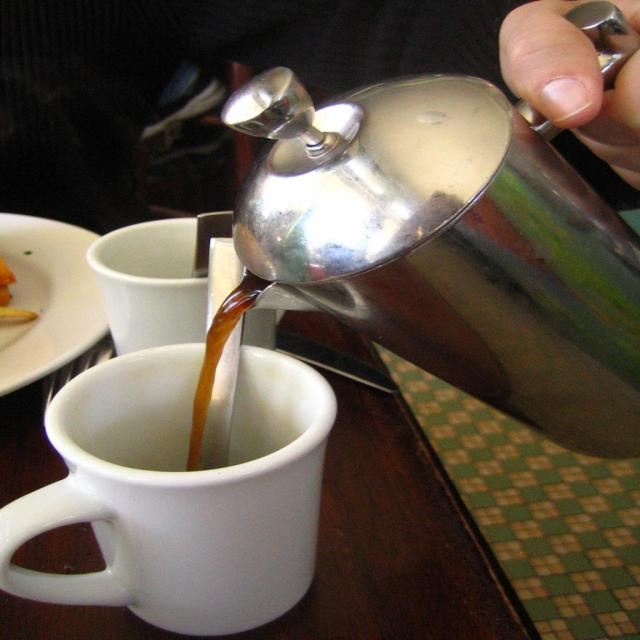Coffee: (174, 270, 278, 471)
